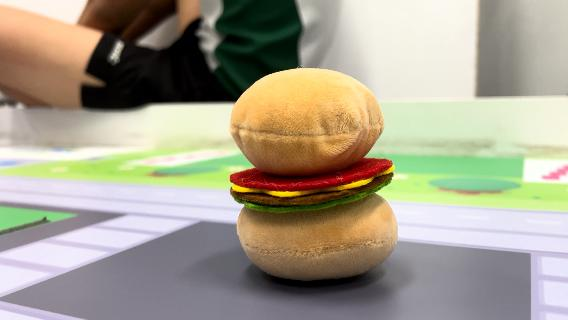burger: (223, 63, 406, 283)
